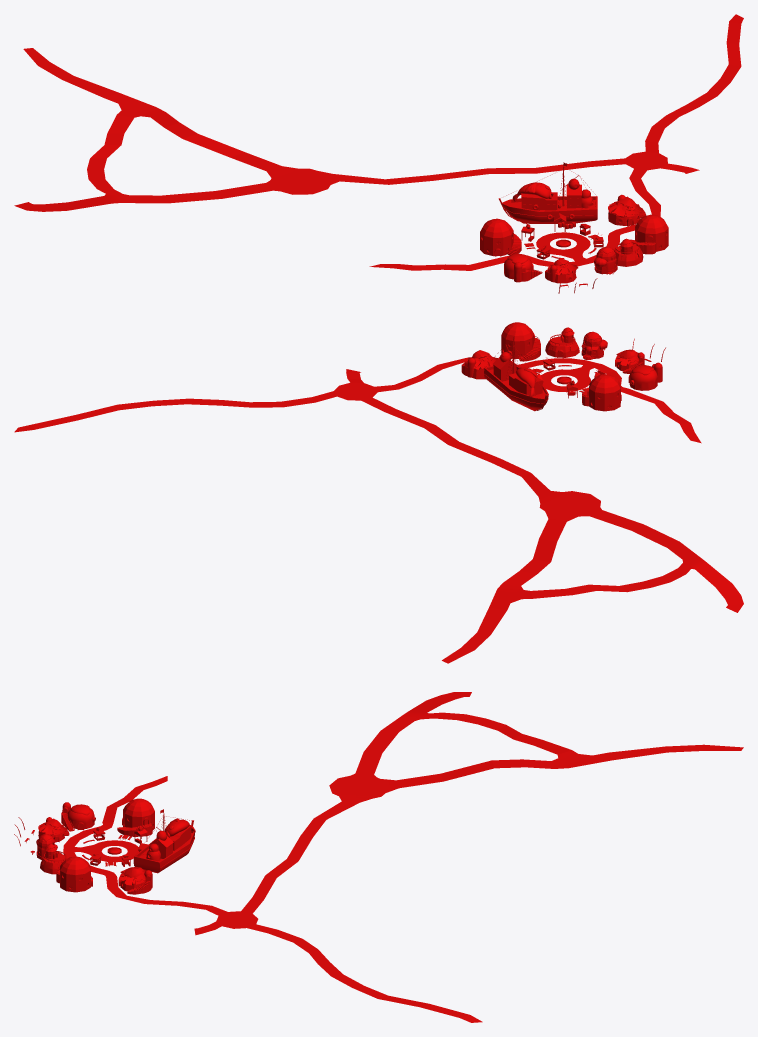
The model's file is Neighborhood_SalmonSettlement_03.glb.
3 renders of one model, top to bottom at view 1: azimuth 30°, elevation 25°; view 2: azimuth 150°, elevation 25°; view 3: azimuth 270°, elevation 25°, orthographic. The views are drawn at different scales.
Parts seen in each view (by area): view 1: Object_Road2, pasted__pasted__pasted__Ship, pasted__HOUSE07, pasted__HOUSE08, pasted__HOUSE09, pasted__HOUSE01, pasted__HOUSE05, pasted__HOUSE03, pasted__STARBUCKS; view 2: Object_Road2, pasted__pasted__pasted__Ship, pasted__HOUSE08, pasted__HOUSE07, pasted__HOUSE01, pasted__HOUSE05, pasted__HOUSE09, pasted__STARBUCKS; view 3: Object_Road2, pasted__pasted__pasted__Ship, pasted__HOUSE07, pasted__HOUSE08, pasted__HOUSE09, pasted__HOUSE01.
Part boxes in pixels (x1,y1,x2,y2): Object_Road2: [14, 14, 743, 270]; pasted__pasted__pasted__Ship: [498, 162, 597, 223]; pasted__HOUSE07: [480, 218, 521, 256]; pasted__HOUSE08: [630, 214, 668, 254]; pasted__HOUSE09: [608, 194, 646, 226]; pasted__HOUSE01: [504, 253, 542, 282]; pasted__HOUSE05: [613, 238, 643, 266]; pasted__HOUSE03: [545, 258, 578, 283]; pasted__STARBUCKS: [594, 246, 617, 274]; Object_Road2: [14, 357, 743, 663]; pasted__pasted__pasted__Ship: [484, 336, 548, 411]; pasted__HOUSE08: [501, 322, 540, 361]; pasted__HOUSE07: [582, 374, 621, 411]; pasted__HOUSE01: [628, 362, 662, 390]; pasted__HOUSE05: [545, 327, 579, 358]; pasted__HOUSE09: [461, 350, 497, 379]; pasted__STARBUCKS: [581, 331, 607, 359]; Object_Road2: [63, 692, 743, 1022]; pasted__pasted__pasted__Ship: [133, 809, 194, 873]; pasted__HOUSE07: [117, 798, 154, 836]; pasted__HOUSE08: [56, 856, 92, 892]; pasted__HOUSE09: [118, 866, 152, 894]; pasted__HOUSE01: [61, 802, 95, 831].
Size of the model in its own units: 190 by 16.7 by 172.
